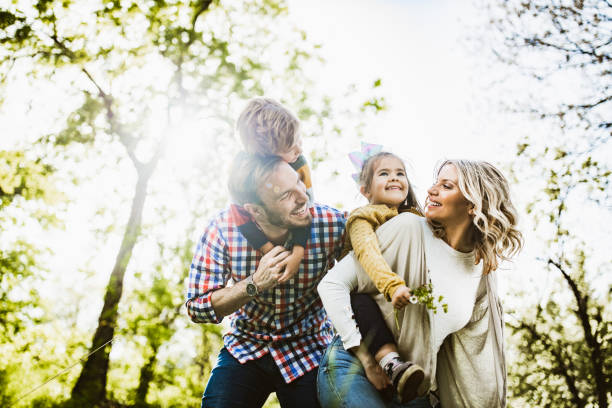without mask: (422, 155, 493, 231), (246, 159, 317, 235), (354, 151, 416, 205), (276, 127, 319, 172)
